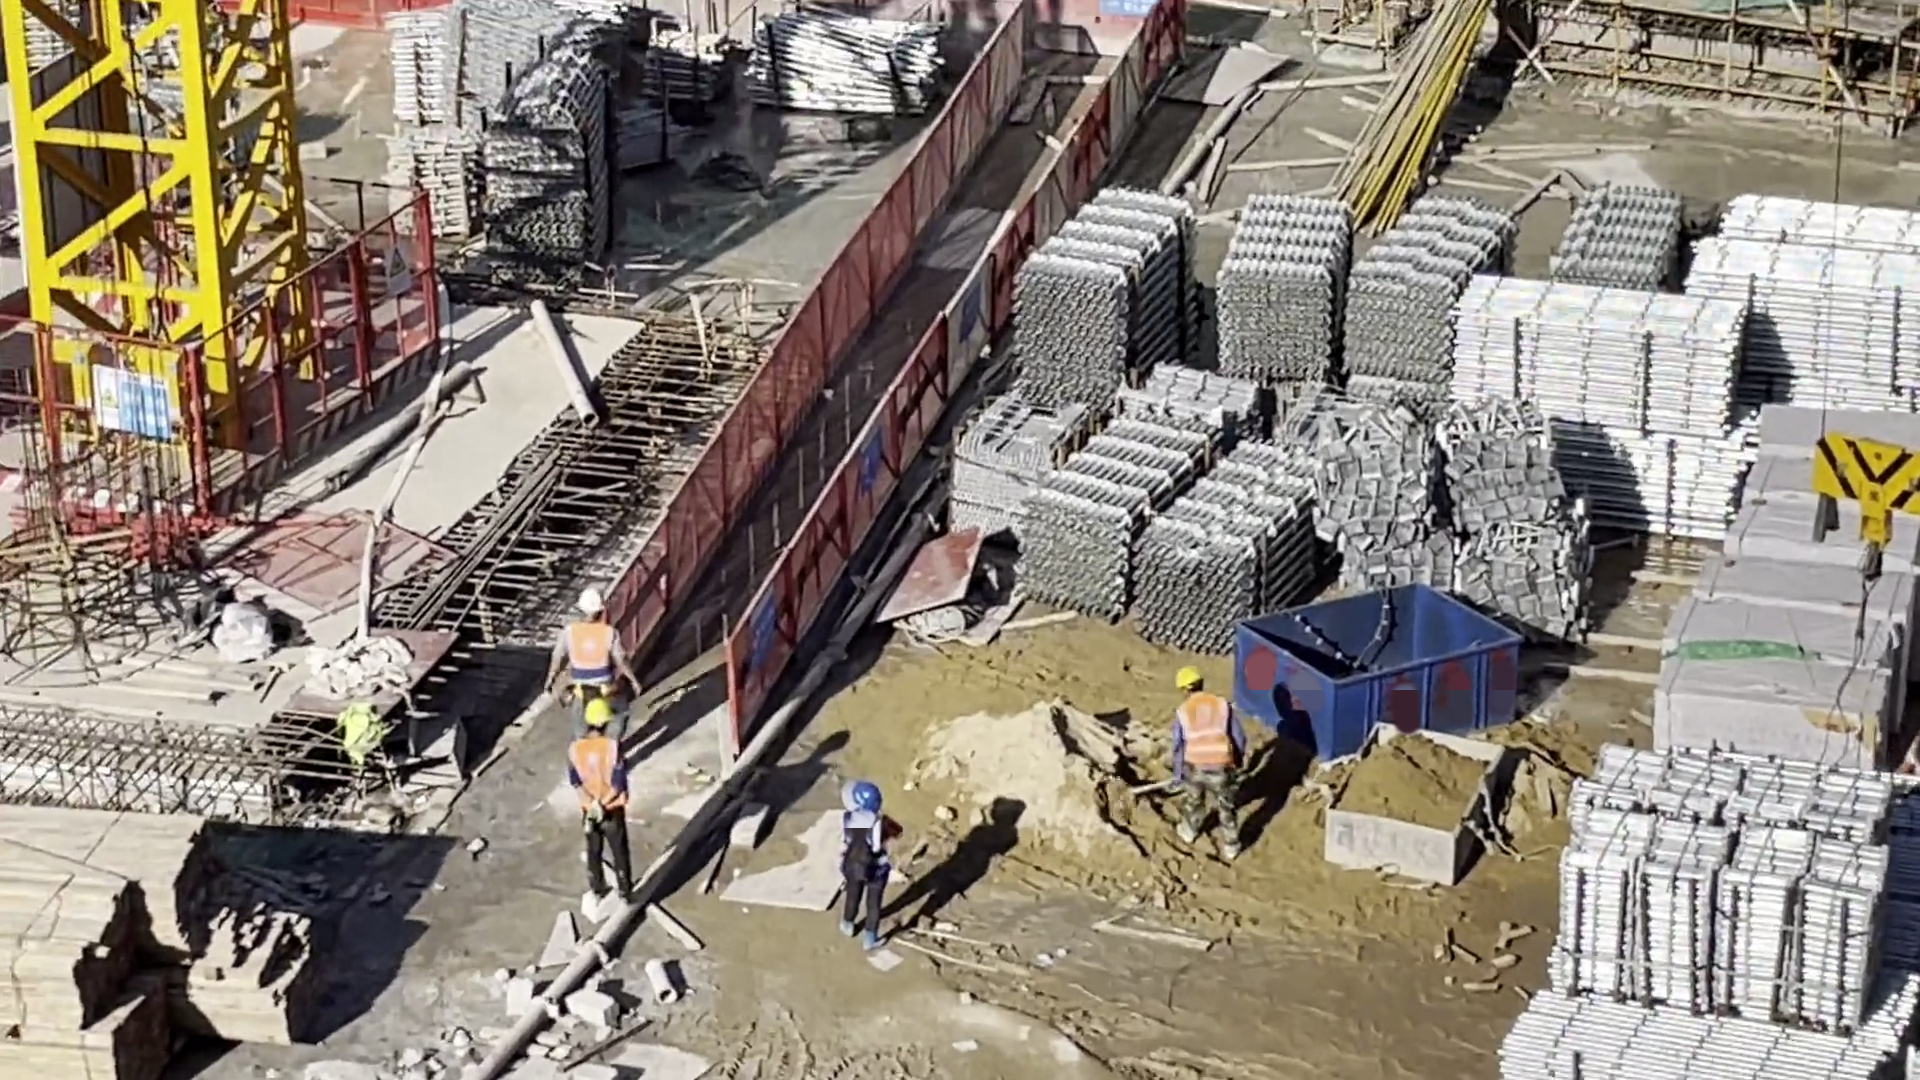fence: (594, 1, 1174, 761)
helmet: (1166, 666, 1219, 705), (570, 572, 611, 617), (578, 692, 612, 731), (849, 775, 883, 809)
hook: (1779, 421, 1915, 574)
hopper: (1231, 578, 1536, 718), (1319, 719, 1460, 883)
person: (1162, 668, 1267, 860), (559, 699, 627, 899), (833, 781, 906, 955), (550, 583, 638, 714)
scaffold: (1482, 738, 1918, 1072), (363, 1, 937, 237), (949, 370, 1317, 643), (1446, 274, 1742, 549), (1696, 191, 1920, 412), (1243, 181, 1448, 380), (1012, 177, 1201, 368), (1547, 181, 1683, 301)
vest: (1170, 698, 1247, 769), (569, 737, 626, 809), (558, 628, 624, 687), (848, 809, 893, 859)
wood: (13, 804, 347, 1075)
